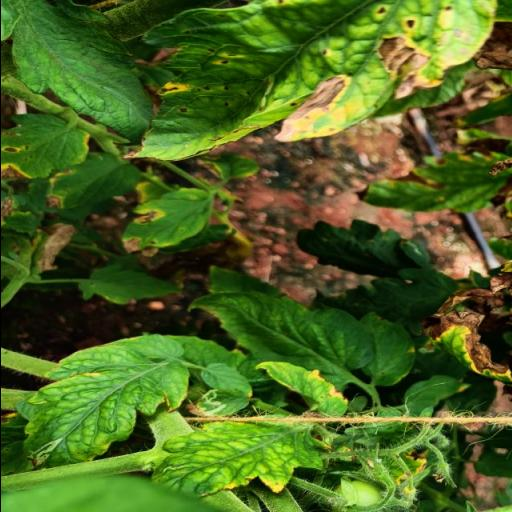disease_tomato: (120, 0, 494, 166), (0, 112, 89, 186), (120, 187, 216, 255)
